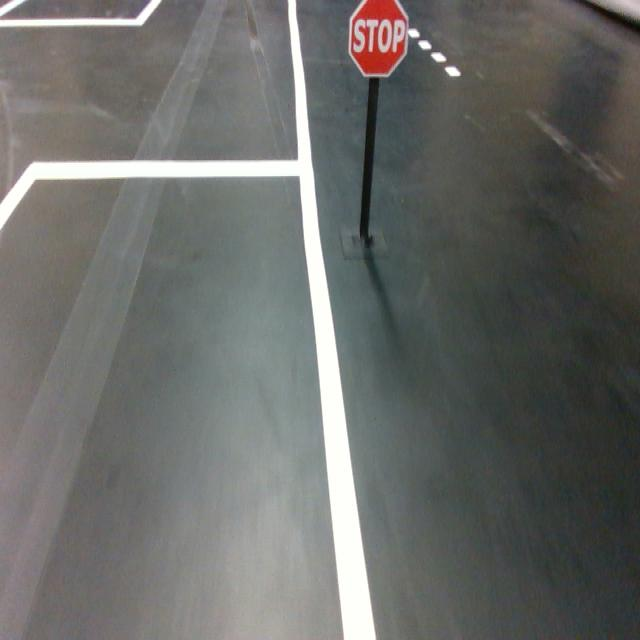stop-sign: (347, 0, 410, 78)
